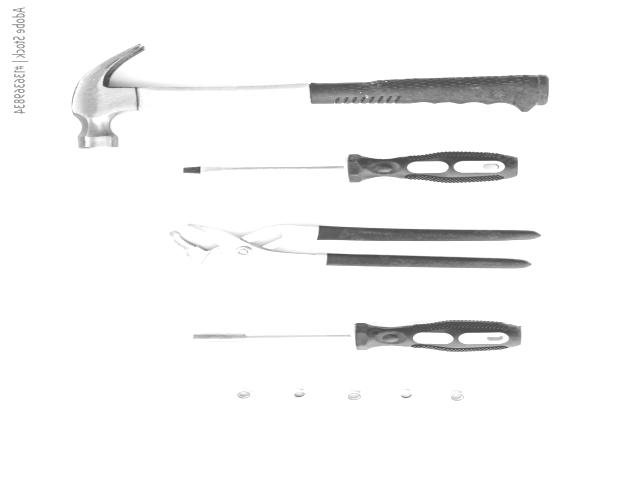Gas wrench: (168, 224, 540, 268)
Hammer: (72, 45, 549, 148)
Screwdriver: (183, 152, 523, 183), (193, 321, 527, 352)
